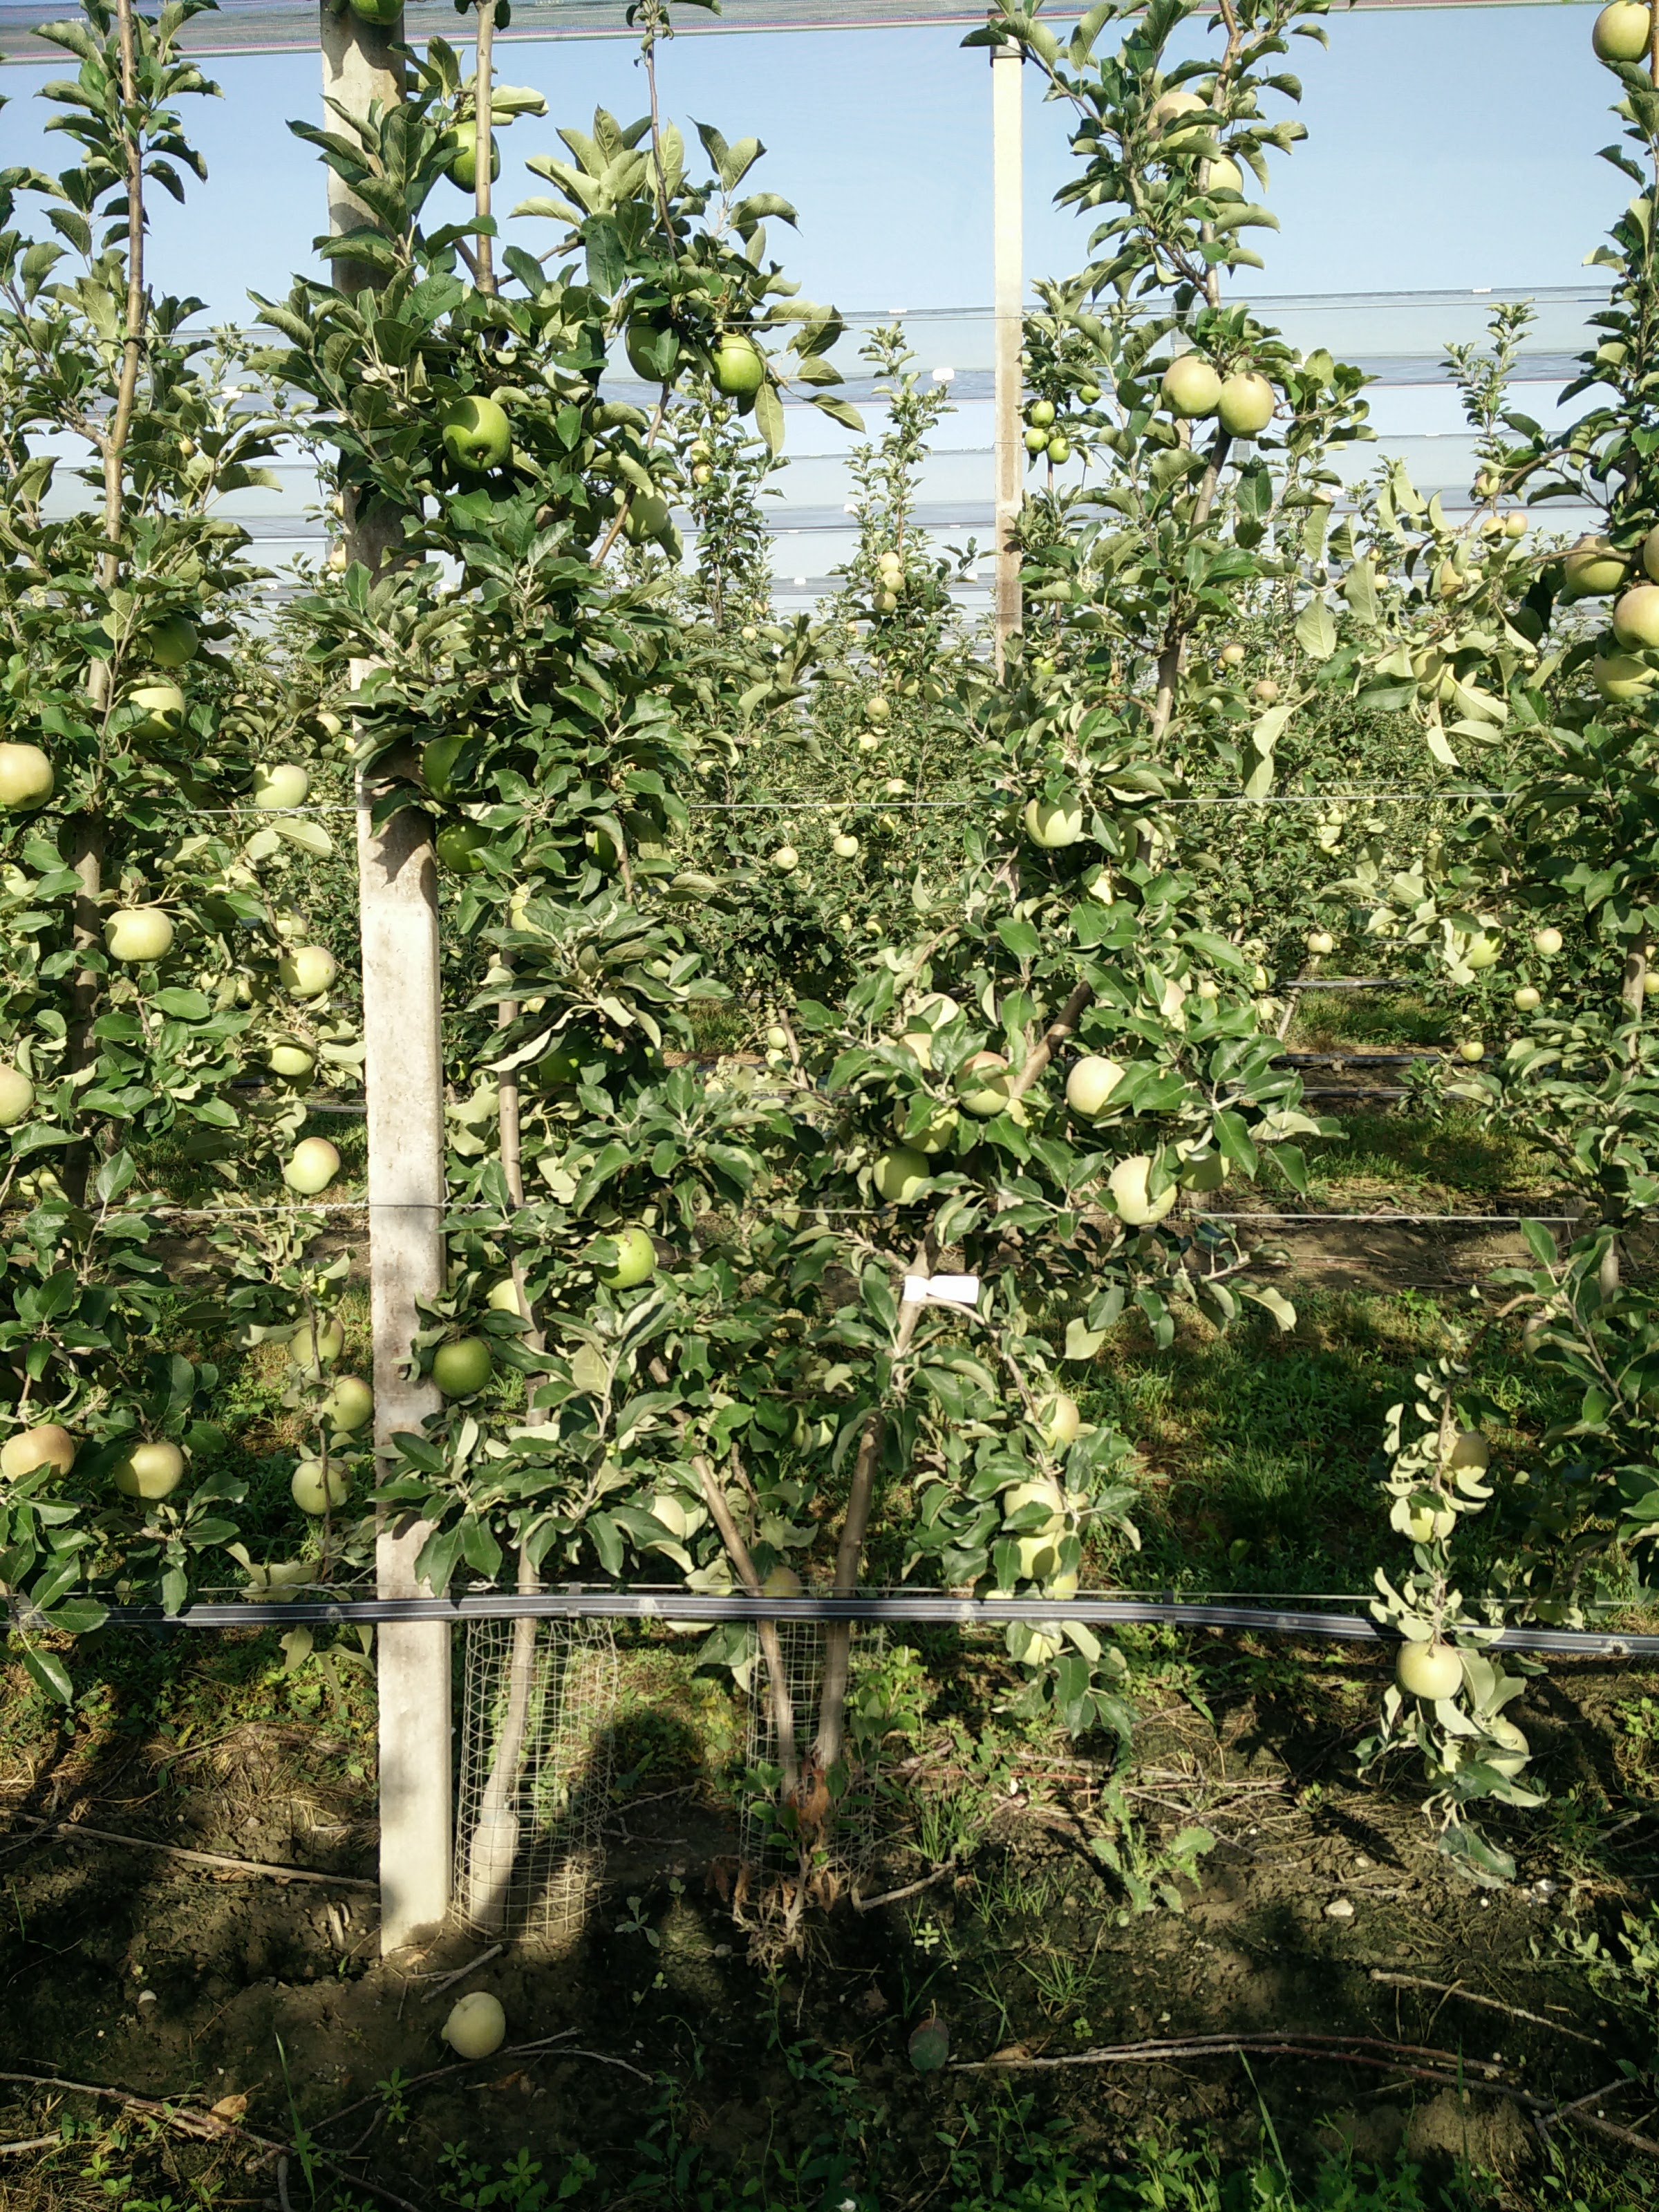apple: (1104, 1155, 1188, 1229), (1, 1417, 84, 1487), (115, 1436, 198, 1504), (1395, 1639, 1468, 1706), (1020, 782, 1089, 852), (1156, 349, 1228, 417), (1060, 1052, 1132, 1117), (103, 902, 178, 964), (1595, 3, 1659, 69), (697, 331, 760, 393), (430, 1335, 496, 1391), (312, 1375, 373, 1432), (276, 944, 340, 997), (1218, 377, 1277, 435), (280, 1142, 342, 1196), (1612, 581, 1659, 648), (289, 1466, 351, 1517)
